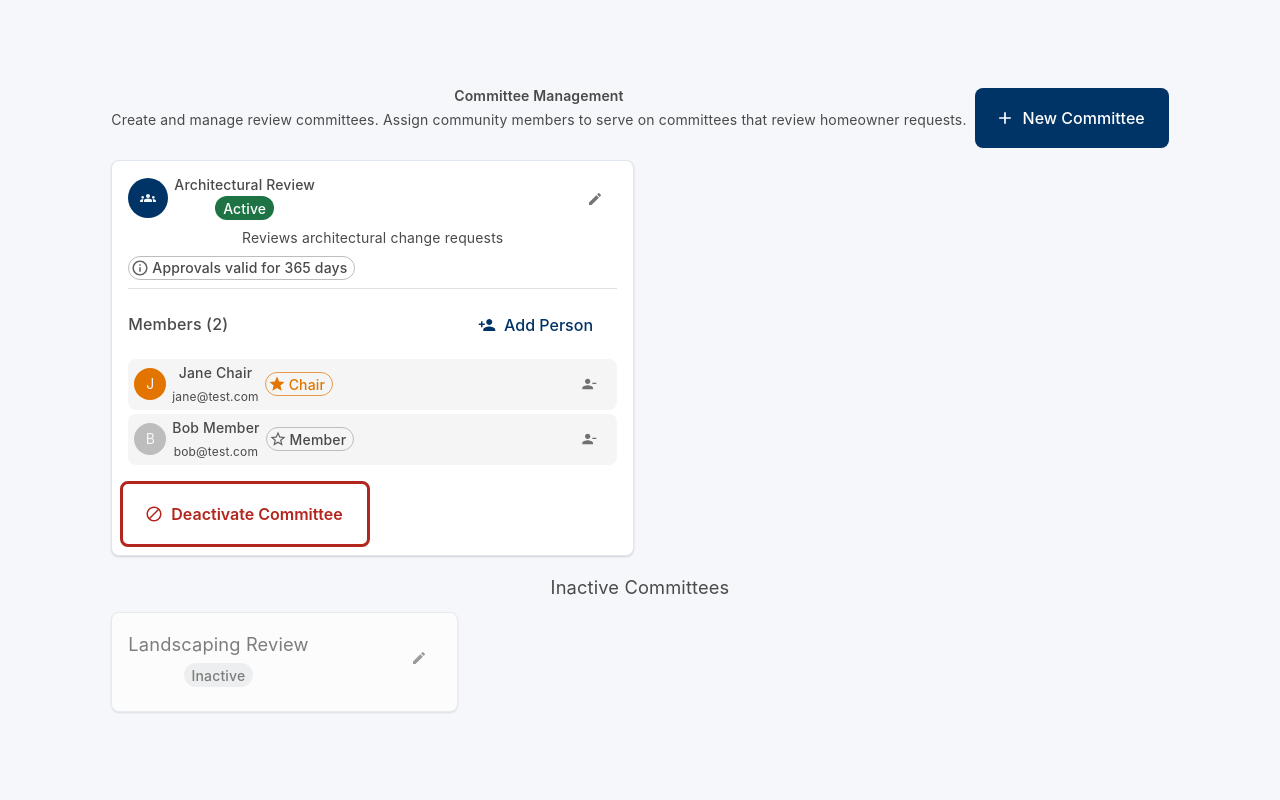
Test case: CommitteeManagementPage › shows remove member confirmation dialog
The width and height of the screenshot is (1280, 800).
// Get the remove button for Jane Chair using tooltip
Click the button with test id "PersonRemoveIcon". click: (589, 384)
box: [567,362,611,406]
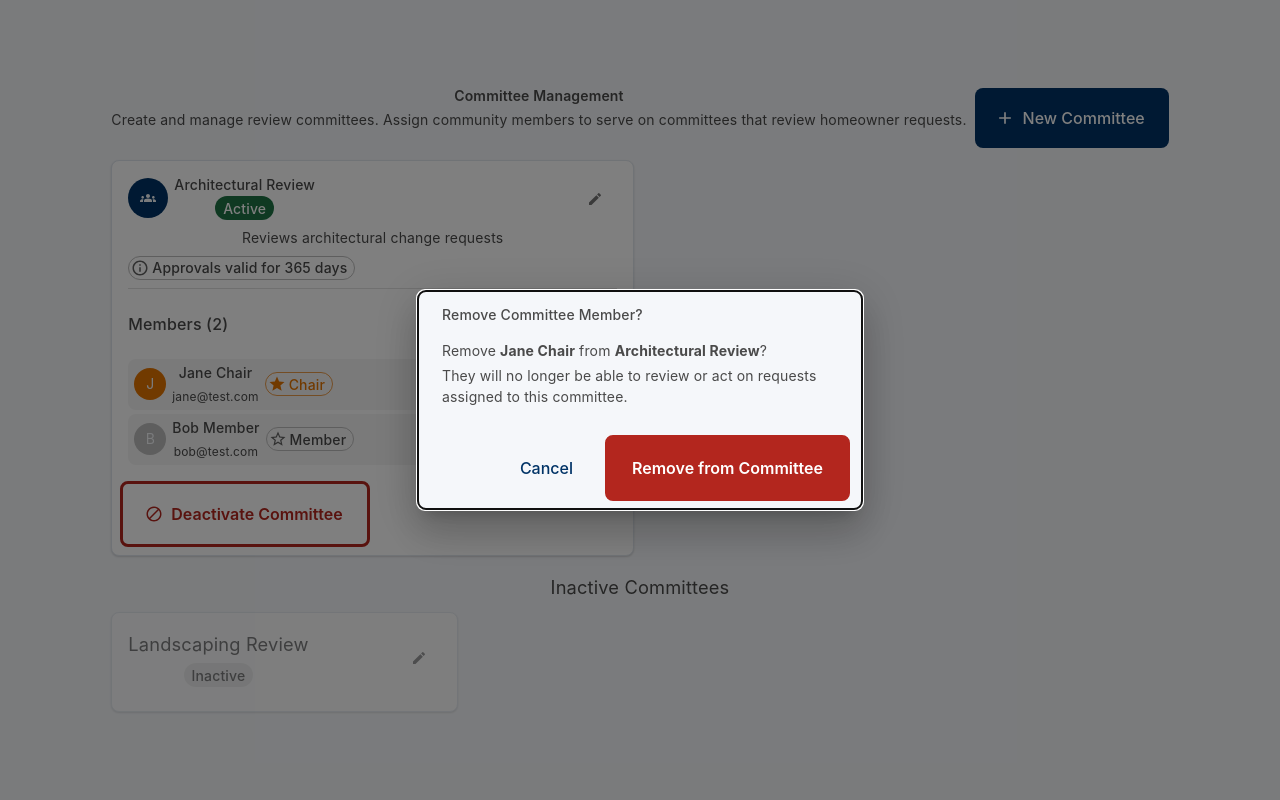
Expected: the heading "Remove Committee Member?" is shown, [442,306,643,323]
Expected: the text "no longer be able to review" is shown, [442,367,816,405]
